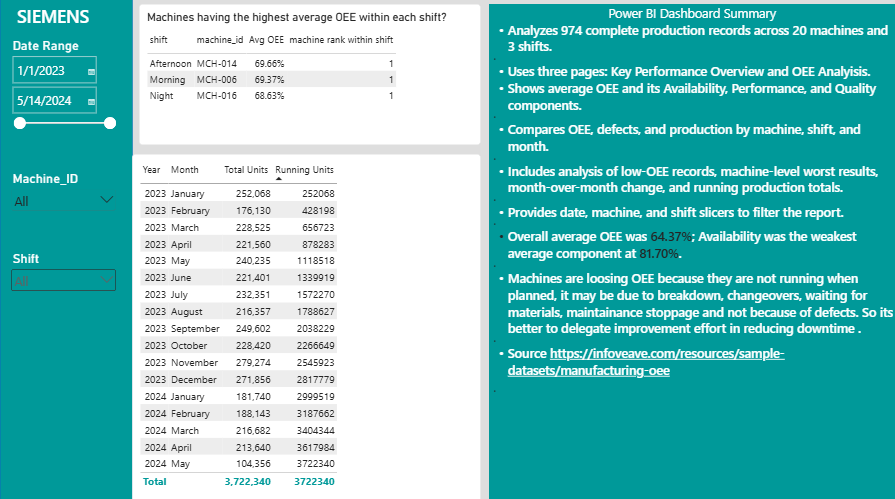

The page's visual inventory and layout, read from the dashboard file:
{"tool":"powerbi","page":{"name":"Analysis_2","canvas":[1920,1080],"ordinal":2},"visuals":[{"type":"shape","box":[0,0,282,1080],"z":0},{"type":"slicer","fields":{"Values":["Calendar.Date"]},"box":[19.3,88,231.7,227.4],"z":1},{"type":"slicer","fields":{"Values":["ManufacturingOEE.machine_id"]},"box":[19.3,371.1,231.7,115.8],"z":2},{"type":"slicer","fields":{"Values":["ManufacturingOEE.shift"]},"box":[19.3,540.6,231.7,130.9],"z":3},{"type":"textbox","box":[36.5,15,178.1,53.6],"z":4},{"type":"tableEx","title":"Machines having the highest average OEE within each shift?","fields":{"Values":["ManufacturingOEE.shift","ManufacturingOEE.machine_id","ManufacturingOEE.Avg OEE","ManufacturingOEE.Machine Rank Within Shift"]},"box":[296,15,727.2,300.3],"z":5},{"type":"tableEx","fields":{"Values":["Calendar.Date.Variation.Date Hierarchy.Year","Calendar.Date.Variation.Date Hierarchy.Month","ManufacturingOEE.Total Units","ManufacturingOEE.Running Units"]},"box":[281,334.7,742.3,744.4],"z":6},{"type":"textbox","box":[1040.4,15,864.5,1064],"z":7}]}

Visuals, with their boxes in screenshot pixels (x1, y1, x2, y2), scaled from the page's 1920x1080 canvas onto the 895x499 screenshot:
shape: <bbox>0, 0, 131, 498</bbox>
slicer - Calendar.Date: <bbox>9, 41, 117, 146</bbox>
slicer - ManufacturingOEE.machine_id: <bbox>9, 171, 117, 225</bbox>
slicer - ManufacturingOEE.shift: <bbox>9, 250, 117, 310</bbox>
textbox: <bbox>17, 7, 100, 32</bbox>
"Machines having the highest average OEE within each shift?" tableEx: <bbox>138, 7, 477, 146</bbox>
tableEx - Calendar.Date.Variation.Date Hierarchy.Year x Calendar.Date.Variation.Date Hierarchy.Month: <bbox>131, 155, 477, 498</bbox>
textbox: <bbox>485, 7, 888, 498</bbox>
